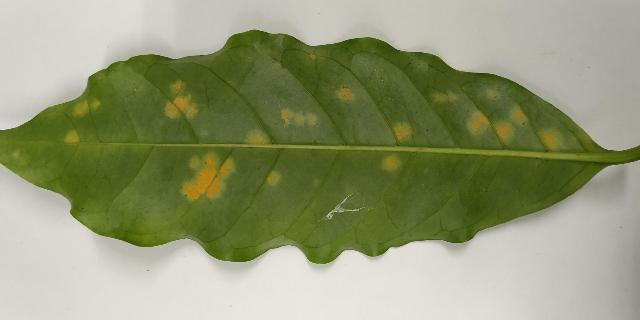miner: (180, 151, 235, 203), (467, 111, 514, 145), (165, 80, 197, 118), (281, 108, 318, 126), (538, 130, 564, 152), (73, 101, 100, 116), (392, 122, 412, 142), (245, 131, 270, 144), (382, 154, 401, 171), (433, 91, 457, 103), (336, 86, 355, 101), (512, 107, 527, 123), (266, 171, 280, 186), (64, 131, 79, 145)
